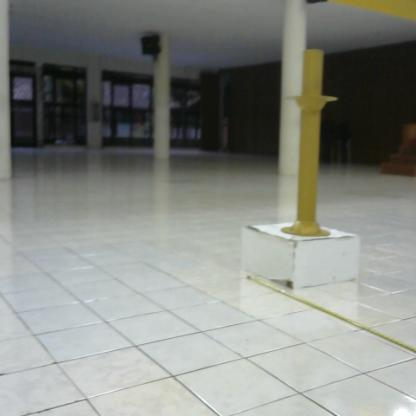pole: (281, 48, 348, 252)
